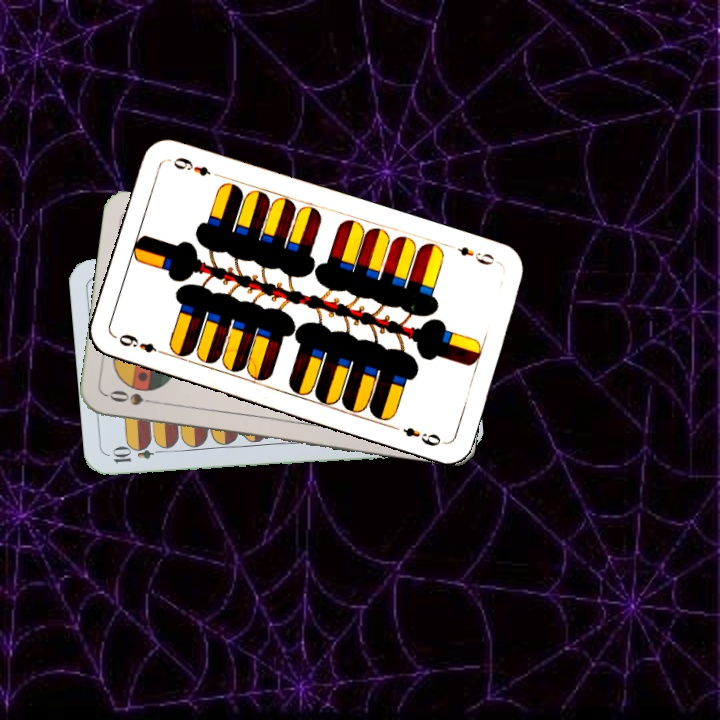E10: (108, 443, 168, 466)
E9: (445, 240, 502, 268), (115, 330, 169, 358)
SO: (103, 386, 162, 408)
